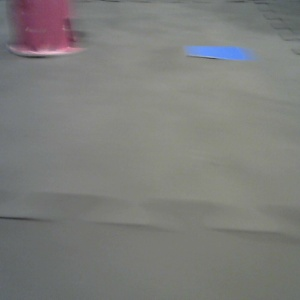right: (181, 1, 256, 73)
